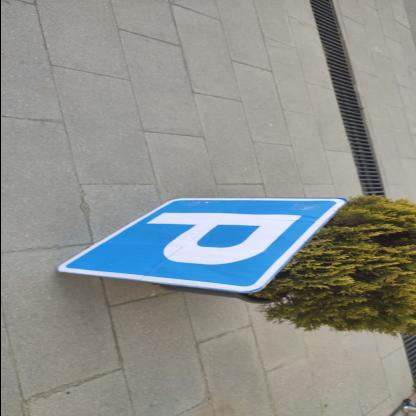Parking-Sign: (53, 198, 351, 297)
